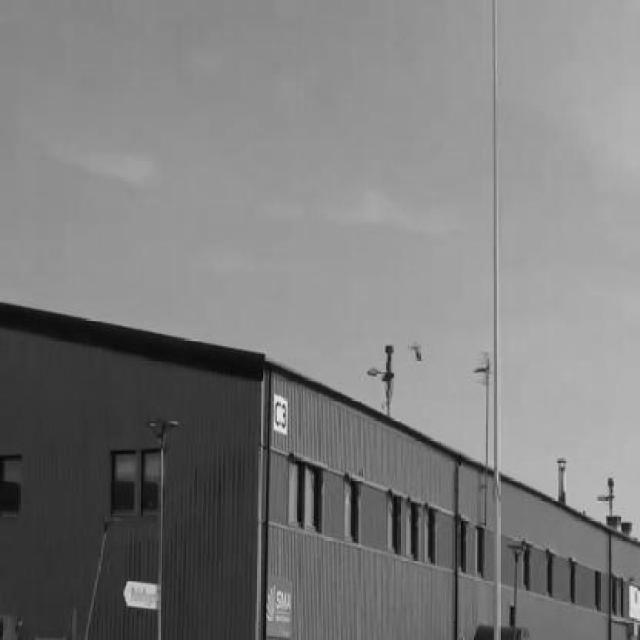helikopter: (406, 332, 428, 368)
